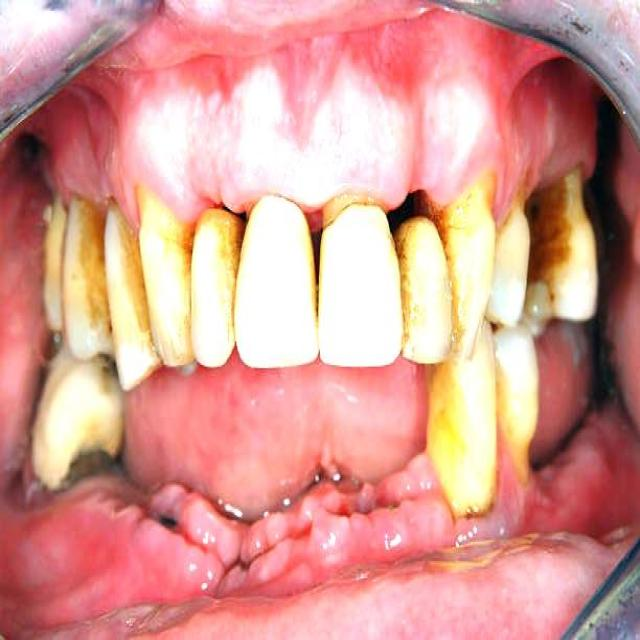swelling: (233, 343, 319, 421)
